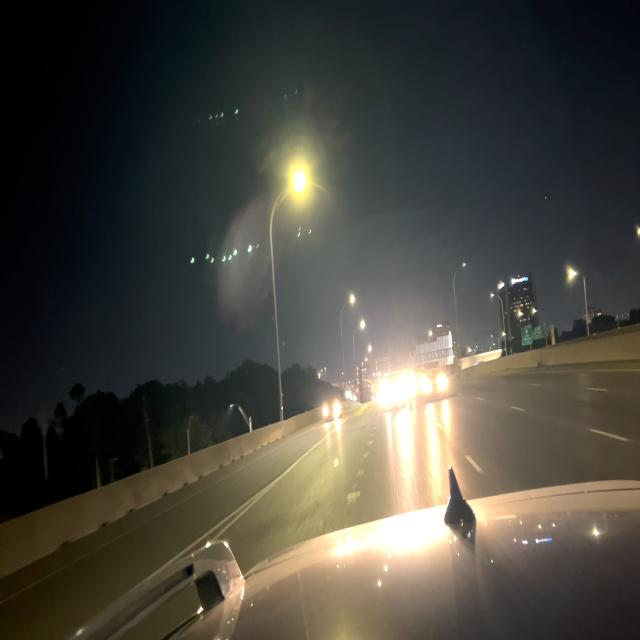back-of-sign: (416, 333, 454, 368)
